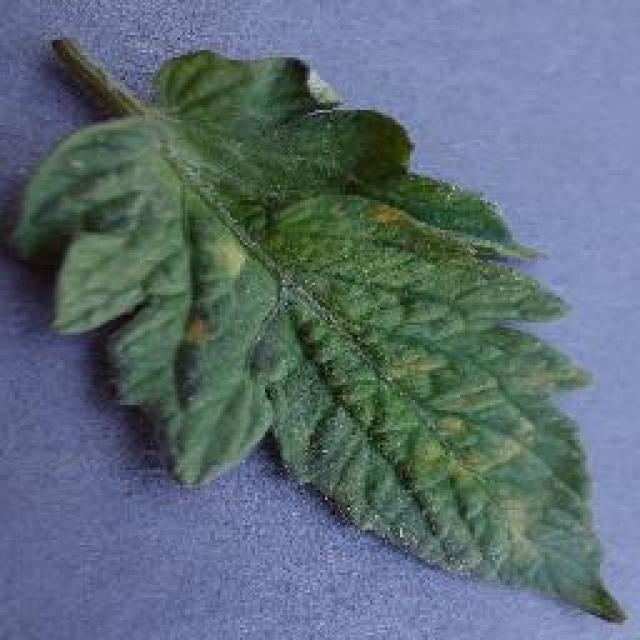leaf mold: (9, 32, 629, 624)
